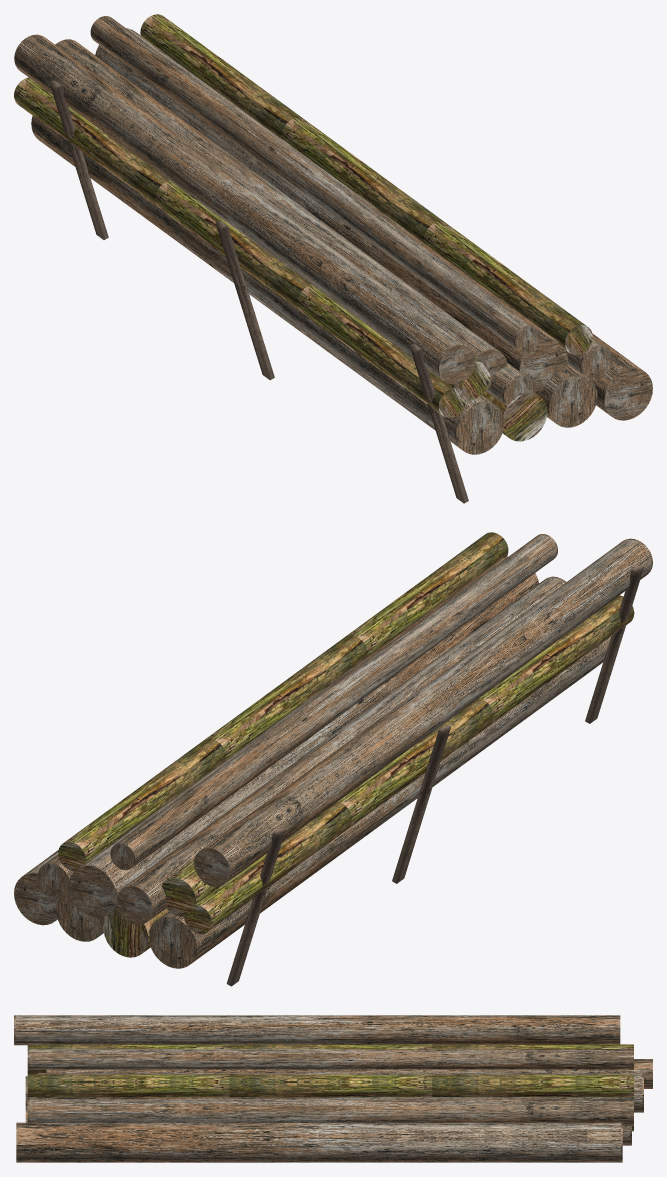
The model's file is brevna_002.fbx.
3 views of the same model, one above another, from view 1: azimuth 30°, elevation 25°; view 2: azimuth 150°, elevation 25°; view 3: azimuth 270°, elevation 25° (orthographic). The views are drawn at different scales.
Parts seen in each view (by area): view 1: Cylinder.013, Cylinder.010, Cylinder.012, Cylinder.009, Cylinder.003, Cylinder.005, Cylinder.004, Cylinder.006, Cylinder.002, Cube.001, Cylinder.001, Cube (+4 smaller); view 2: Cylinder.013, Cylinder.010, Cylinder.012, Cylinder.009, Cylinder.005, Cylinder.003, Cylinder.004, Cube.001, Cube, Cube.002, Cylinder.006, Cylinder.008 (+3 smaller); view 3: Cylinder.006, Cylinder.013, Cylinder.007, Cylinder.010, Cylinder.012, Cylinder.005, Cylinder.008, Cylinder.004, Cylinder.002.
Boxes of the visible parts, box(x1,y1,x2,y2) form: Cylinder.013: box(14, 34, 475, 384); Cylinder.010: box(140, 14, 592, 354); Cylinder.012: box(90, 16, 540, 353); Cylinder.009: box(14, 77, 466, 417); Cylinder.003: box(31, 116, 504, 454); Cylinder.005: box(95, 28, 567, 390); Cylinder.004: box(55, 39, 507, 388); Cylinder.006: box(592, 333, 652, 420); Cylinder.002: box(535, 364, 597, 427); Cube.001: box(215, 220, 274, 380); Cylinder.001: box(482, 391, 547, 441); Cube: box(49, 80, 108, 239); Cylinder.013: box(194, 538, 652, 886); Cylinder.010: box(58, 532, 508, 871); Cylinder.012: box(110, 534, 557, 870); Cylinder.009: box(184, 595, 634, 933); Cylinder.005: box(68, 556, 539, 917); Cylinder.003: box(149, 637, 610, 968); Cylinder.004: box(116, 576, 566, 924); Cube.001: box(392, 724, 450, 883); Cube: box(226, 827, 285, 986); Cube.002: box(585, 564, 643, 723); Cylinder.006: box(14, 850, 59, 925); Cylinder.008: box(161, 860, 220, 916); Cylinder.006: box(16, 1122, 622, 1162); Cylinder.013: box(14, 1015, 620, 1045); Cylinder.007: box(27, 1099, 633, 1125); Cylinder.010: box(27, 1074, 633, 1097); Cylinder.012: box(27, 1049, 633, 1069); Cylinder.005: box(37, 1073, 643, 1112); Cylinder.008: box(27, 1044, 633, 1074); Cylinder.004: box(46, 1059, 652, 1088); Cylinder.002: box(25, 1105, 631, 1145).
Bounding box in the file's own units: 159 × 132 × 556.
